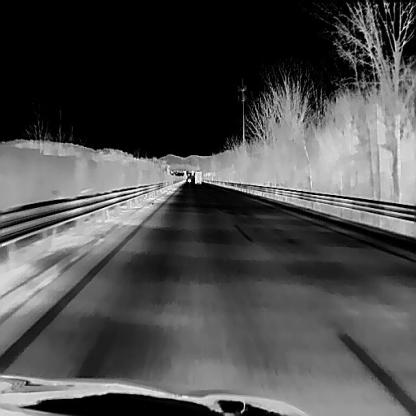truck: (194, 169, 201, 183)
